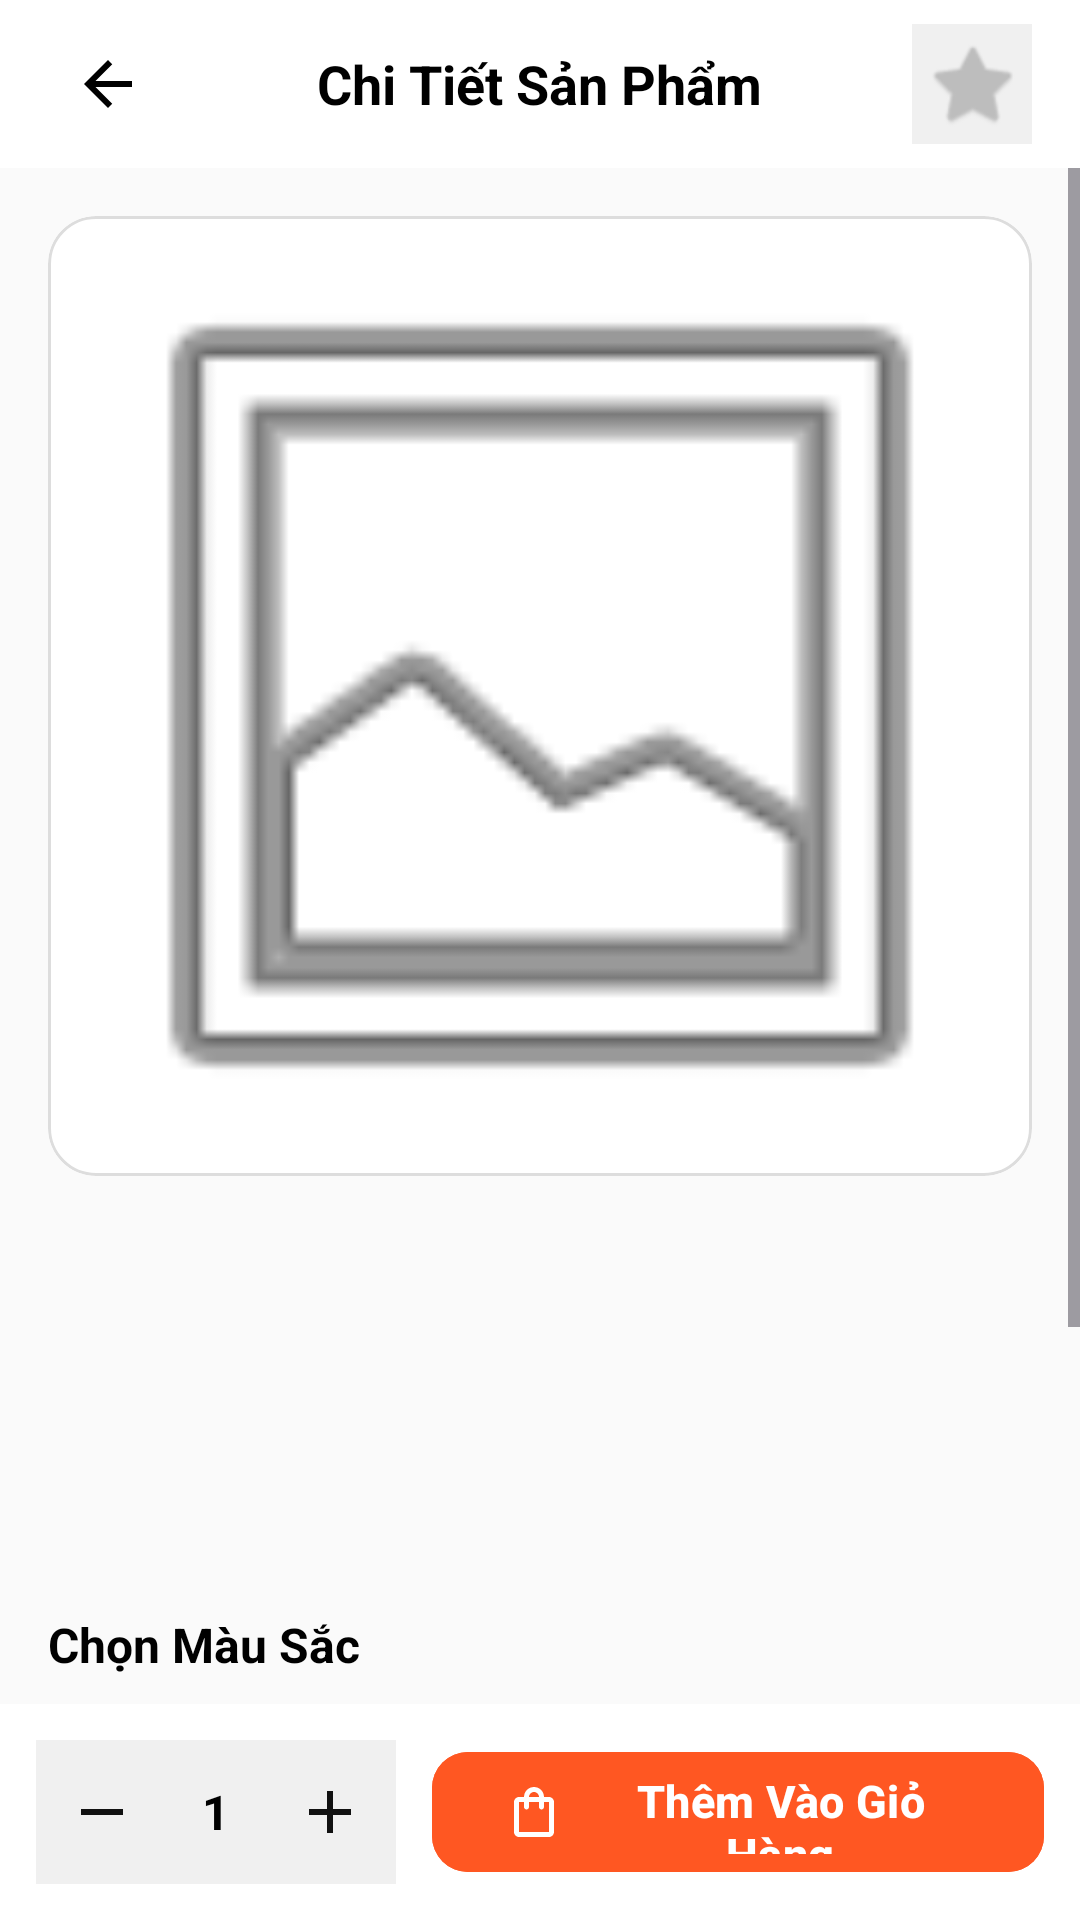

Icons on this 1080px×1920px Android screen, each with its box as {"x1": x1, "y1": y1, "x2": x2, "y2": y2}:
Quay lại: {"x1": 84, "y1": 60, "x2": 132, "y2": 108}
Tăng: {"x1": 309, "y1": 1791, "x2": 351, "y2": 1833}
Yêu thích: {"x1": 933, "y1": 46, "x2": 1013, "y2": 123}
